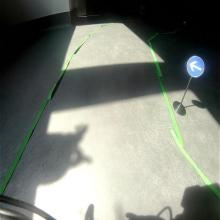left: (186, 54, 206, 78)
